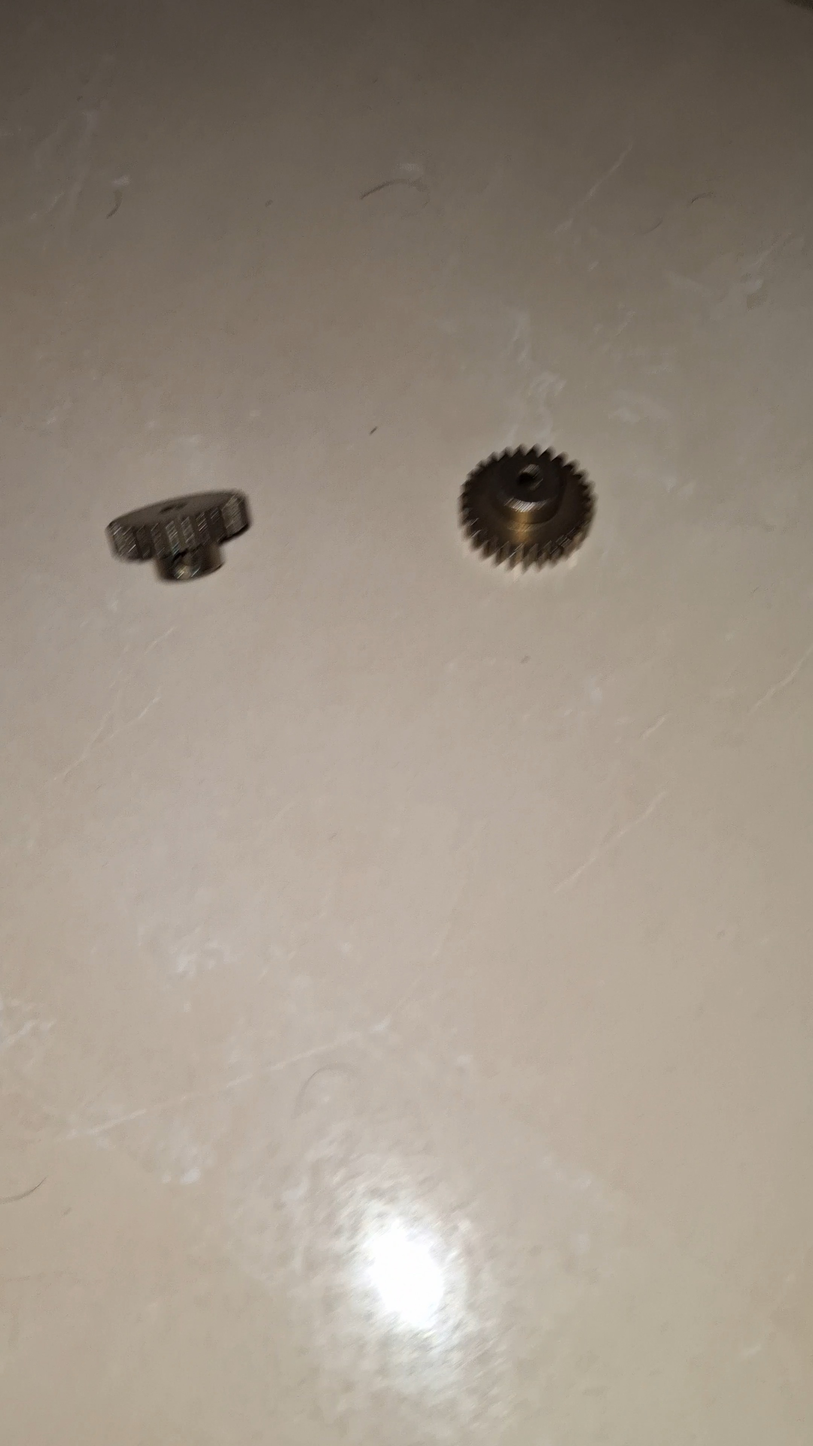spur gear: (460, 448, 594, 567), (108, 491, 249, 581), (789, 0, 813, 10)
